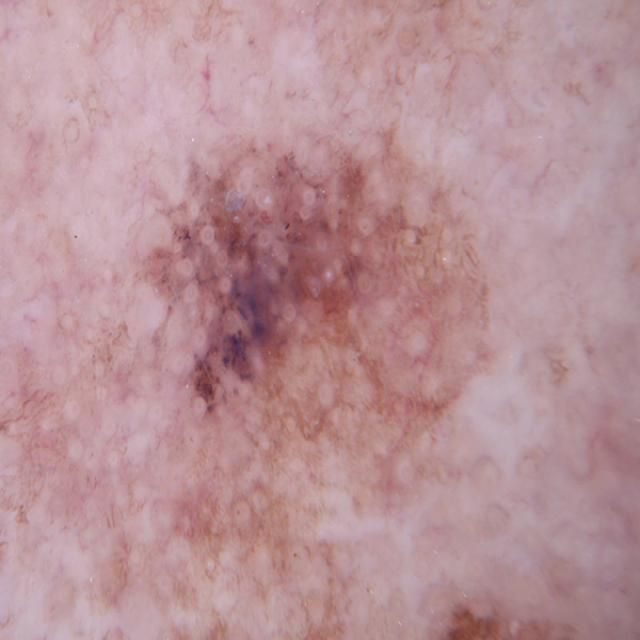Skin-Cancer Pigmented benign keratosis: (1, 4, 639, 640)
